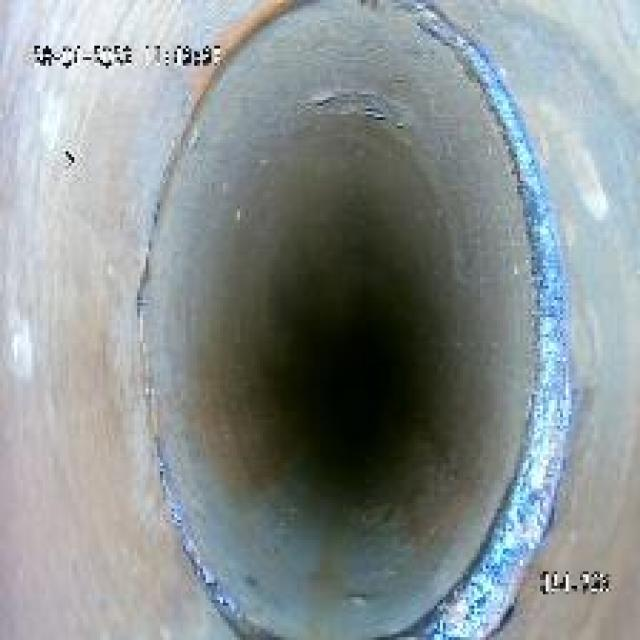joint: (129, 0, 574, 637)
